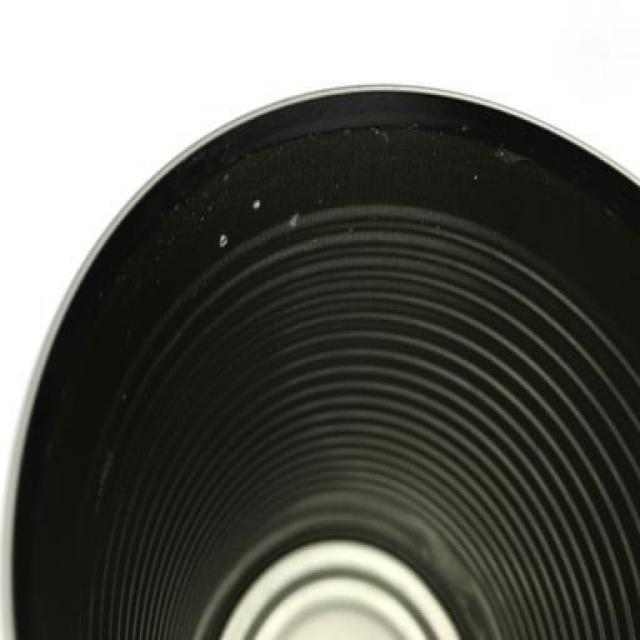metel: (8, 76, 640, 640)
